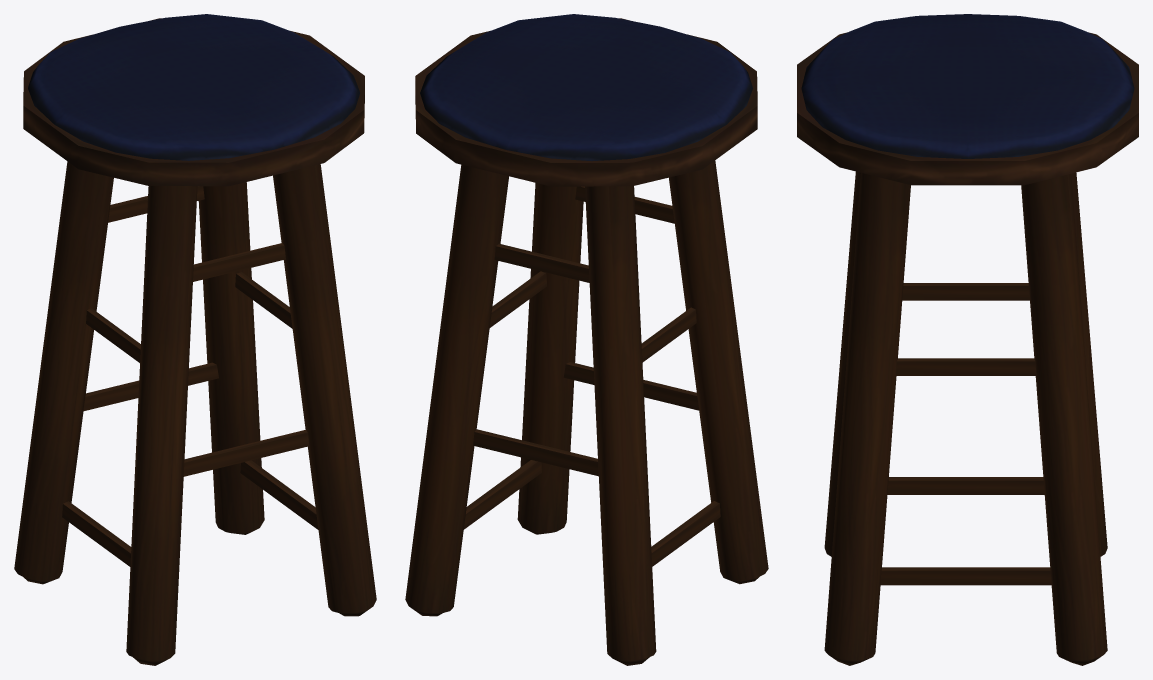
Rendered from Stool_C.fbx.
3 renders of one model, left to right at view 1: azimuth 30°, elevation 25°; view 2: azimuth 150°, elevation 25°; view 3: azimuth 270°, elevation 25°, orthographic. The views are drawn at different scales.
Parts seen in each view (by area): view 1: Stool_Legs_A, Stool_Cushion_A, Stool_Supports_A, Stool_Base_A; view 2: Stool_Legs_A, Stool_Cushion_A, Stool_Supports_A, Stool_Base_A; view 3: Stool_Legs_A, Stool_Cushion_A, Stool_Base_A, Stool_Supports_A.
Boxes of the visible parts, bbox=[...] form: Stool_Legs_A: bbox=[14, 161, 376, 665]; Stool_Cushion_A: bbox=[28, 14, 359, 160]; Stool_Supports_A: bbox=[62, 186, 318, 566]; Stool_Base_A: bbox=[23, 18, 364, 186]; Stool_Legs_A: bbox=[405, 160, 768, 665]; Stool_Cushion_A: bbox=[420, 14, 752, 161]; Stool_Supports_A: bbox=[463, 186, 720, 566]; Stool_Base_A: bbox=[415, 18, 757, 186]; Stool_Legs_A: bbox=[824, 171, 1107, 665]; Stool_Cushion_A: bbox=[801, 14, 1134, 158]; Stool_Base_A: bbox=[797, 32, 1138, 185]; Stool_Supports_A: bbox=[880, 283, 1051, 585].
Bounding box in the file's own units: 5.65 × 9.78 × 5.65.
